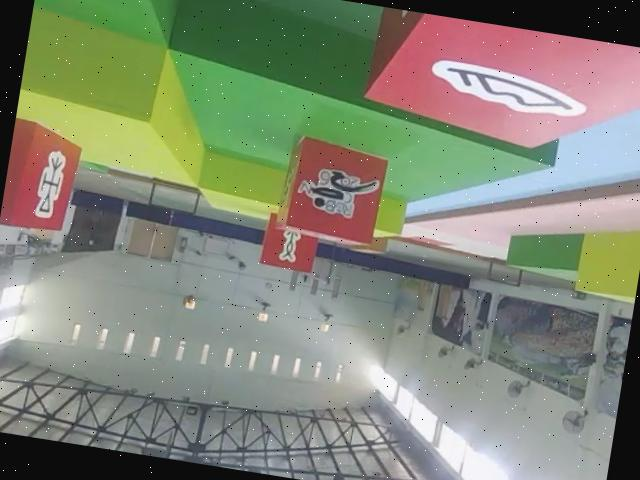R1: (273, 133, 393, 253)
R2 Real: (356, 5, 640, 173), (0, 115, 87, 241), (256, 206, 325, 280)
